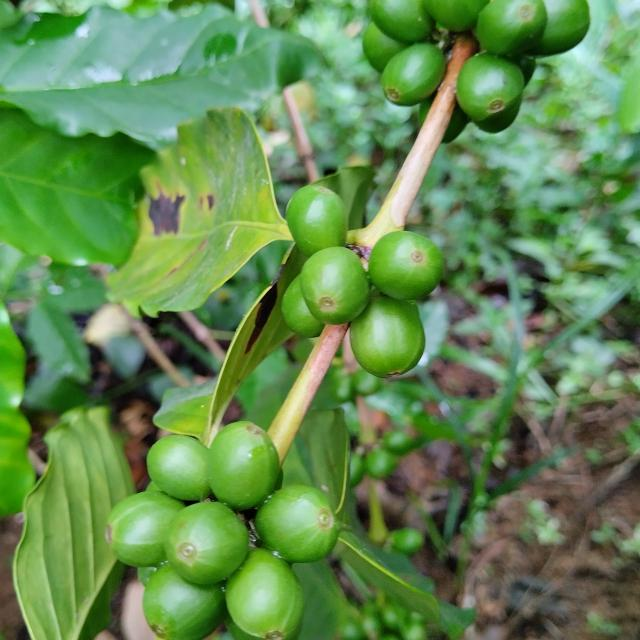green: (225, 549, 304, 640), (164, 502, 248, 586), (207, 421, 280, 511), (255, 486, 339, 564), (142, 564, 227, 640), (350, 295, 426, 378), (104, 491, 184, 568), (300, 246, 370, 325), (457, 52, 525, 132), (369, 230, 444, 300), (286, 185, 348, 257), (146, 435, 211, 501), (381, 42, 446, 105), (477, 0, 548, 54), (527, 0, 591, 55), (369, 0, 435, 43), (282, 275, 324, 338), (363, 21, 408, 72)
